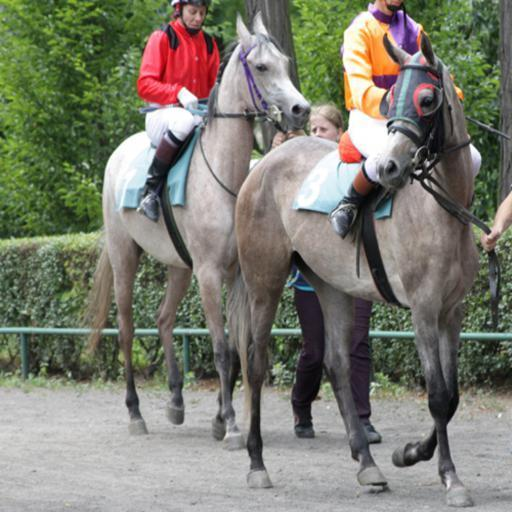horse: (226, 27, 484, 505), (80, 9, 312, 455)
